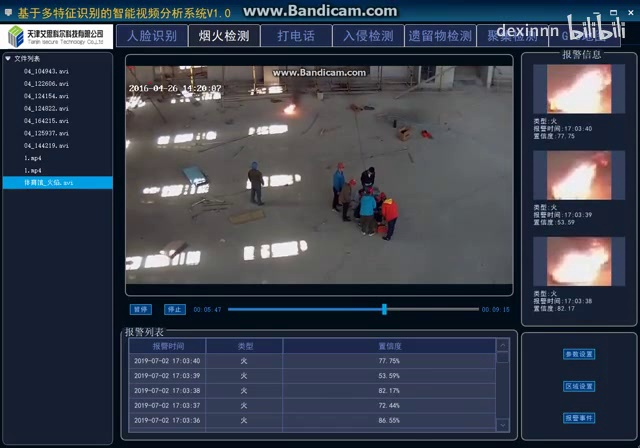fire: (280, 101, 299, 119)
